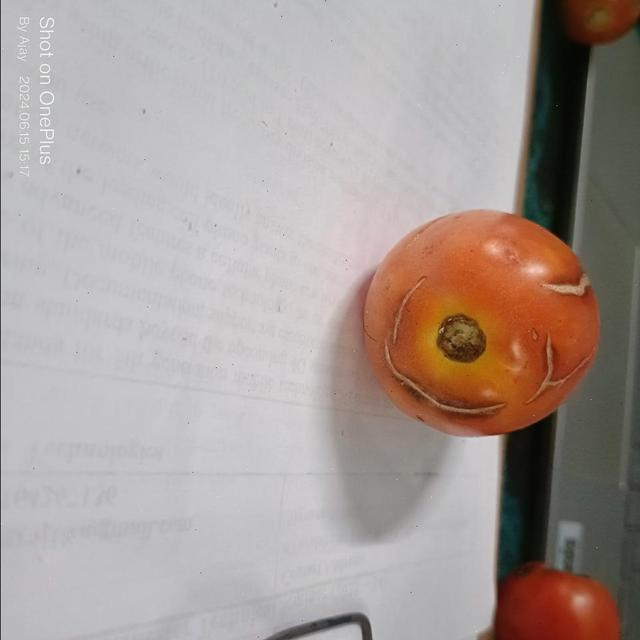Cracking Fruit: (284, 178, 396, 284)
